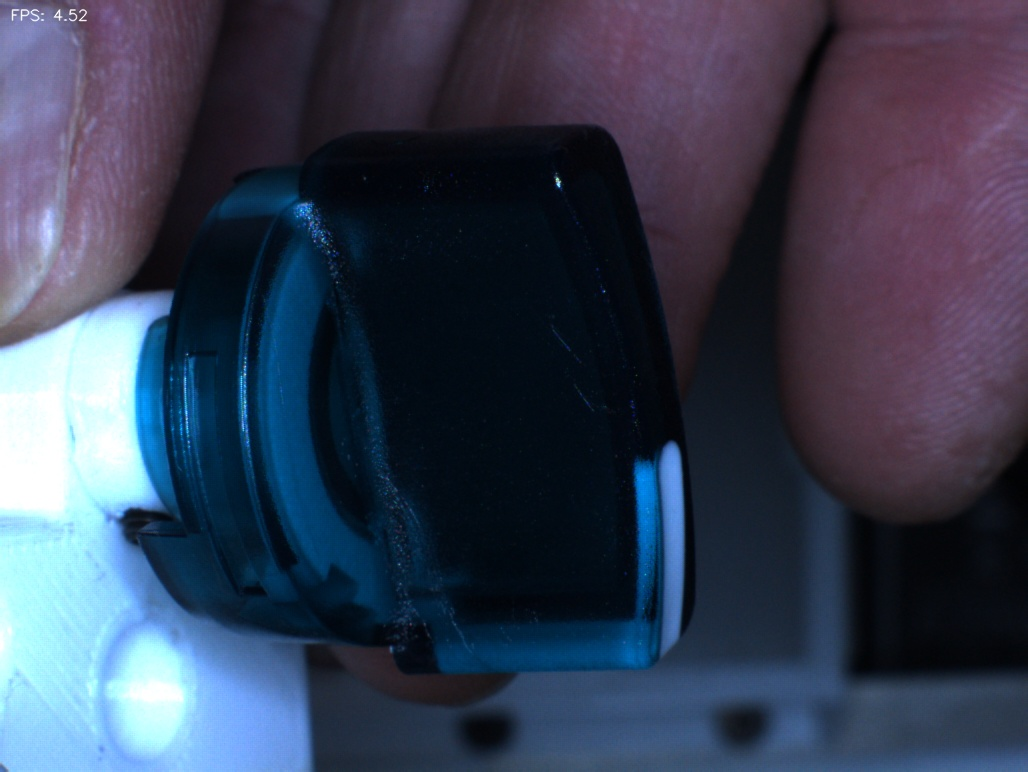Givrage: (526, 297, 637, 436), (384, 483, 443, 635)
